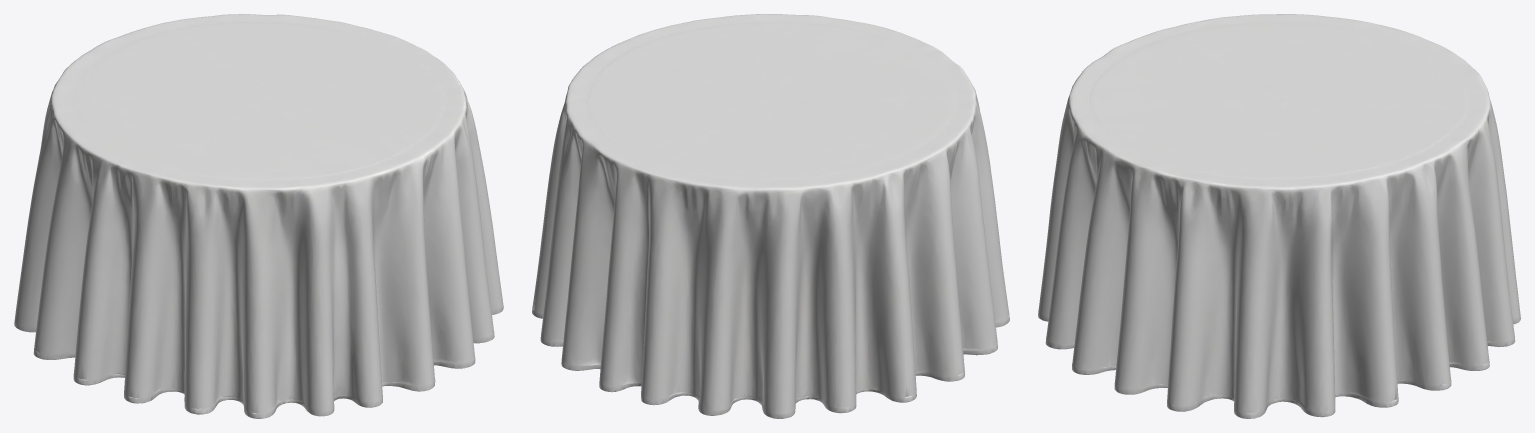
Rendered from ring-center-table.glb.
The picture shows the model from 3 angles, left to right: view 1: azimuth 30°, elevation 25°; view 2: azimuth 150°, elevation 25°; view 3: azimuth 270°, elevation 25°; orthographic projection.
Visible parts, largest first — view 1: tripo_node_50d67e21-b700-41ce-a5bb-98d8561ffb8d; view 2: tripo_node_50d67e21-b700-41ce-a5bb-98d8561ffb8d; view 3: tripo_node_50d67e21-b700-41ce-a5bb-98d8561ffb8d.
Boxes of the visible parts, x1,y1,x2,y2 form: tripo_node_50d67e21-b700-41ce-a5bb-98d8561ffb8d: (14, 14, 503, 418); tripo_node_50d67e21-b700-41ce-a5bb-98d8561ffb8d: (532, 14, 1009, 418); tripo_node_50d67e21-b700-41ce-a5bb-98d8561ffb8d: (1038, 14, 1520, 418).
Size of the model in its own units: 1.5 by 0.7505 by 1.5.
1 material, 1 textured.
